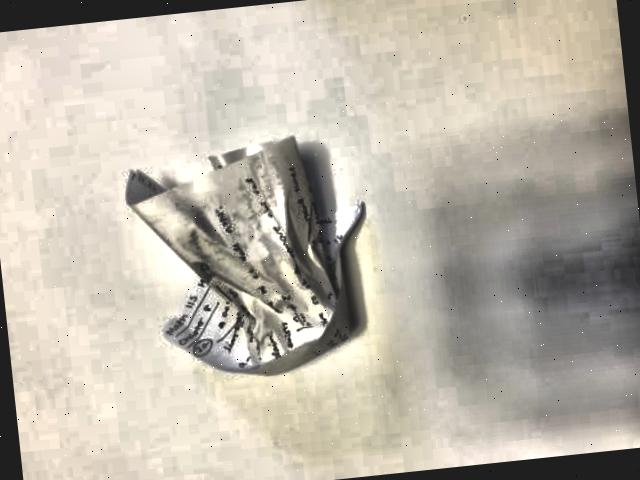Paper: (98, 103, 388, 424)
